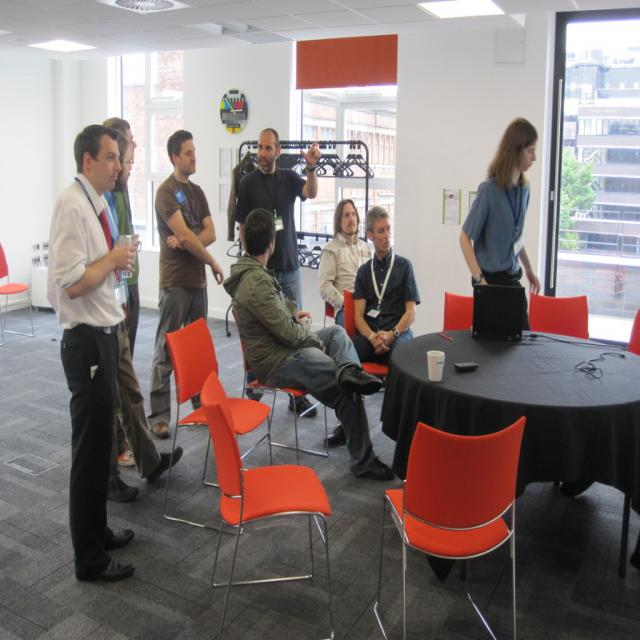chair: (201, 370, 335, 640), (377, 416, 526, 640), (161, 318, 274, 522), (228, 304, 329, 466), (0, 242, 36, 342), (529, 292, 589, 340), (443, 291, 473, 331), (625, 309, 640, 355)
desk: (386, 330, 630, 533)
laptop: (470, 283, 530, 342)
person: (49, 119, 149, 587), (226, 208, 395, 480), (149, 128, 225, 438), (234, 128, 320, 312), (459, 118, 541, 300), (351, 204, 421, 368), (317, 197, 374, 335)
